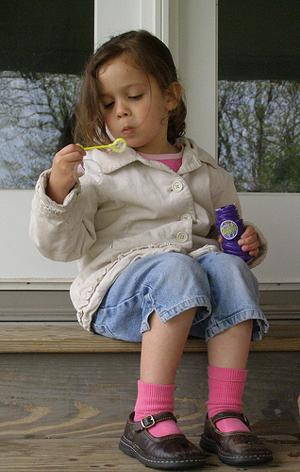person: (31, 27, 269, 469)
